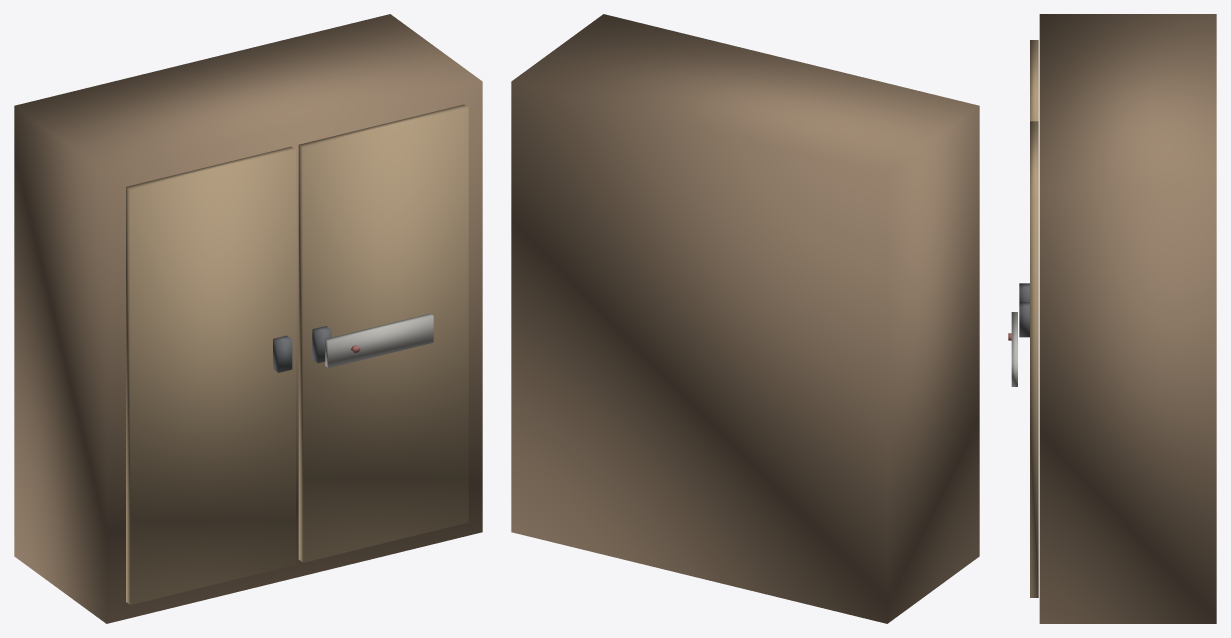
File: photo_chemical_cabinet__wide.glb
The picture shows the model from 3 angles, left to right: view 1: azimuth 30°, elevation 25°; view 2: azimuth 150°, elevation 25°; view 3: azimuth 270°, elevation 25°; orthographic projection. The views are drawn at different scales.
Visible parts, largest first — view 1: world; view 2: world; view 3: world.
Boxes of the visible parts, x1,y1,x2,y2 form: world: [14, 14, 482, 623]; world: [511, 14, 979, 623]; world: [1008, 14, 1216, 623].
Bounding box in the file's own units: 1.18 × 1.35 × 0.5885.
